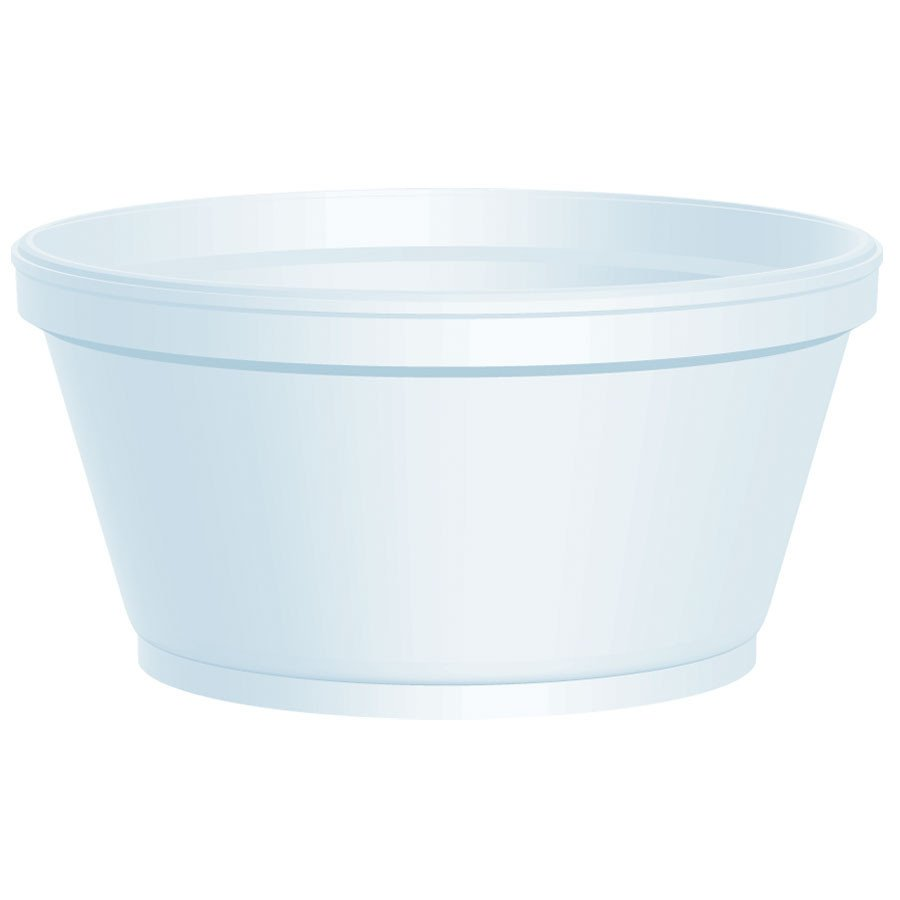Nonrec_Plastic: (1, 163, 879, 736)
